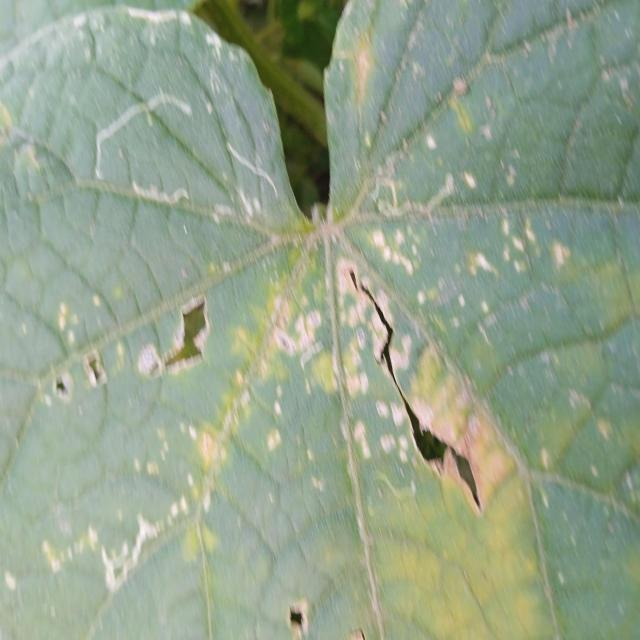cucumber_anthracnose: (22, 208, 626, 630)
